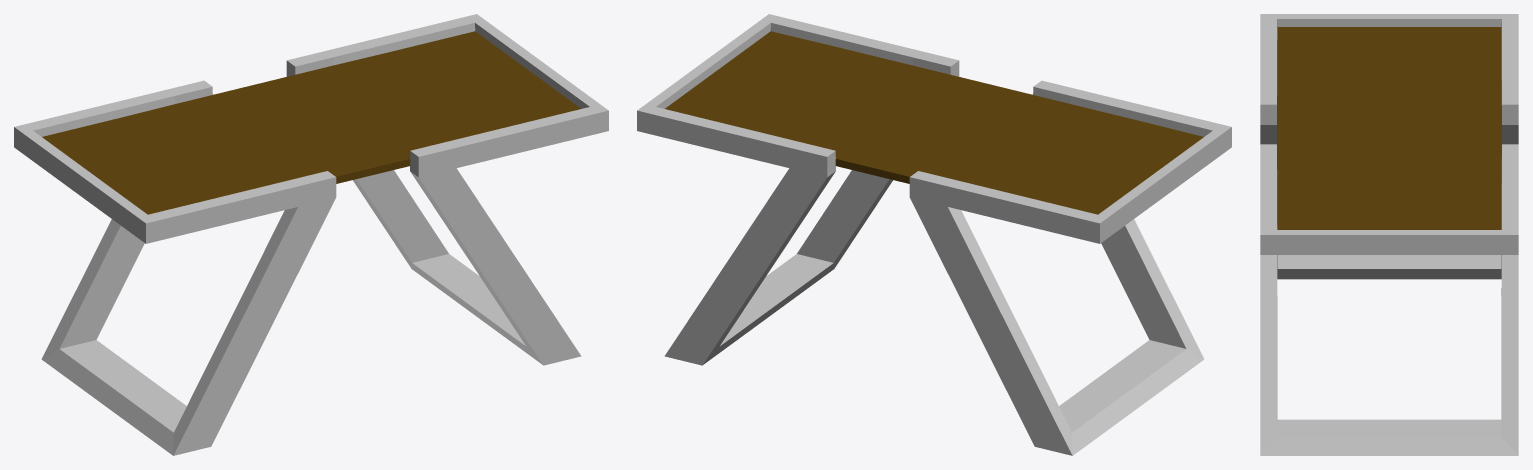
The model's file is table_two.fbx.
The picture shows the model from 3 angles, left to right: view 1: azimuth 30°, elevation 25°; view 2: azimuth 150°, elevation 25°; view 3: azimuth 270°, elevation 25°; orthographic projection. The views are drawn at different scales.
Parts seen in each view (by area): view 1: pCube2, pCube1, pCube4; view 2: pCube2, pCube1, pCube4; view 3: pCube2, pCube4, pCube1.
Part boxes in pixels (left/top/right/bottom): pCube2: left=42, top=31, right=580, bottom=214; pCube1: left=14, top=80, right=336, bottom=455; pCube4: left=286, top=14, right=608, bottom=365; pCube2: left=665, top=31, right=1203, bottom=214; pCube1: left=909, top=80, right=1231, bottom=455; pCube4: left=637, top=14, right=959, bottom=365; pCube2: left=1277, top=27, right=1501, bottom=229; pCube4: left=1260, top=144, right=1518, bottom=455; pCube1: left=1260, top=14, right=1518, bottom=279.
Size of the model in its own units: 13.65 by 6.74 by 6.74.
